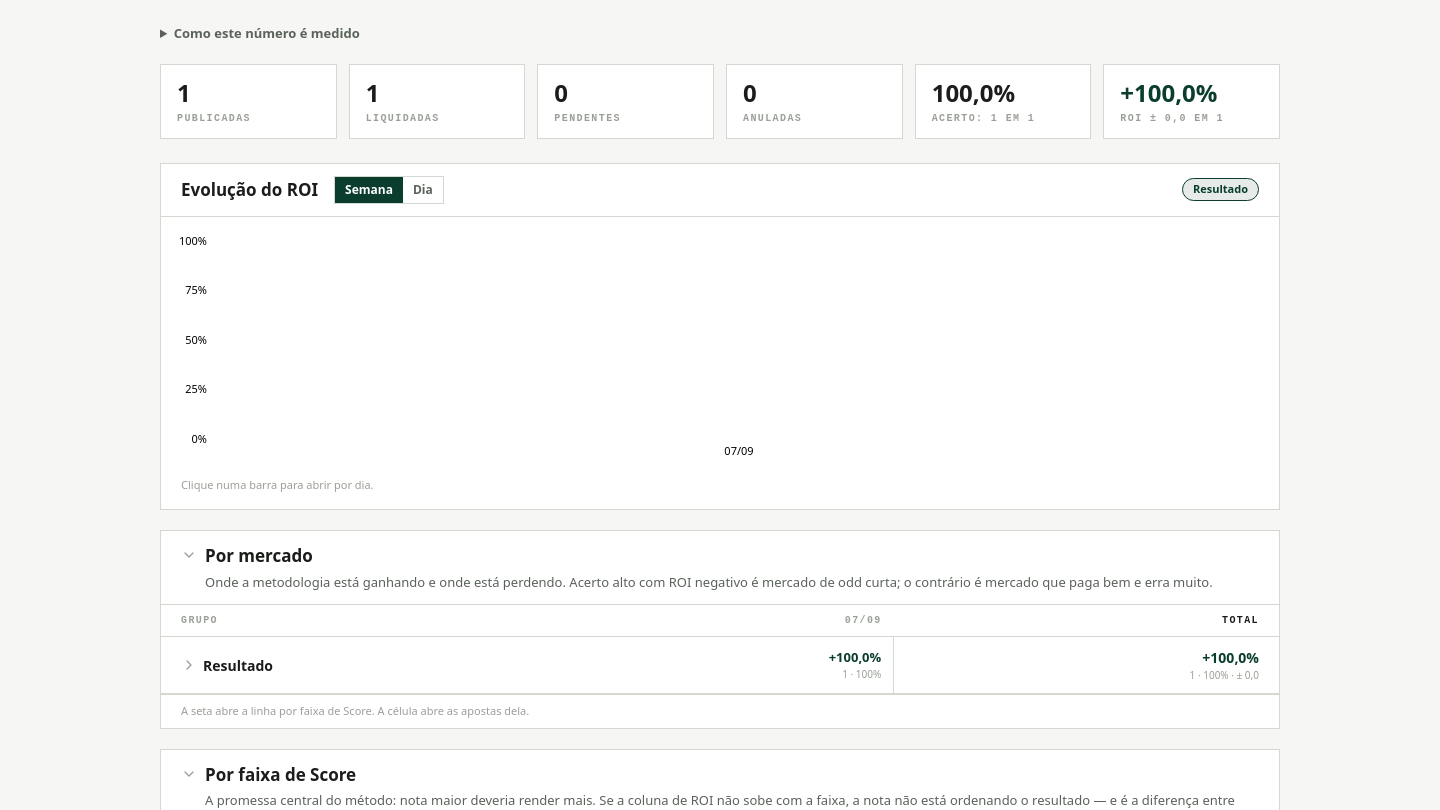
Test: o drill mostra o placar e a distância até a linha › e em mercado sem linha mostra o placar, sem inventar margem
This screenshot has width=1440, height=810.
Click the cell "+100,0% 1 · 100%": (855, 657) [624,636,894,694]
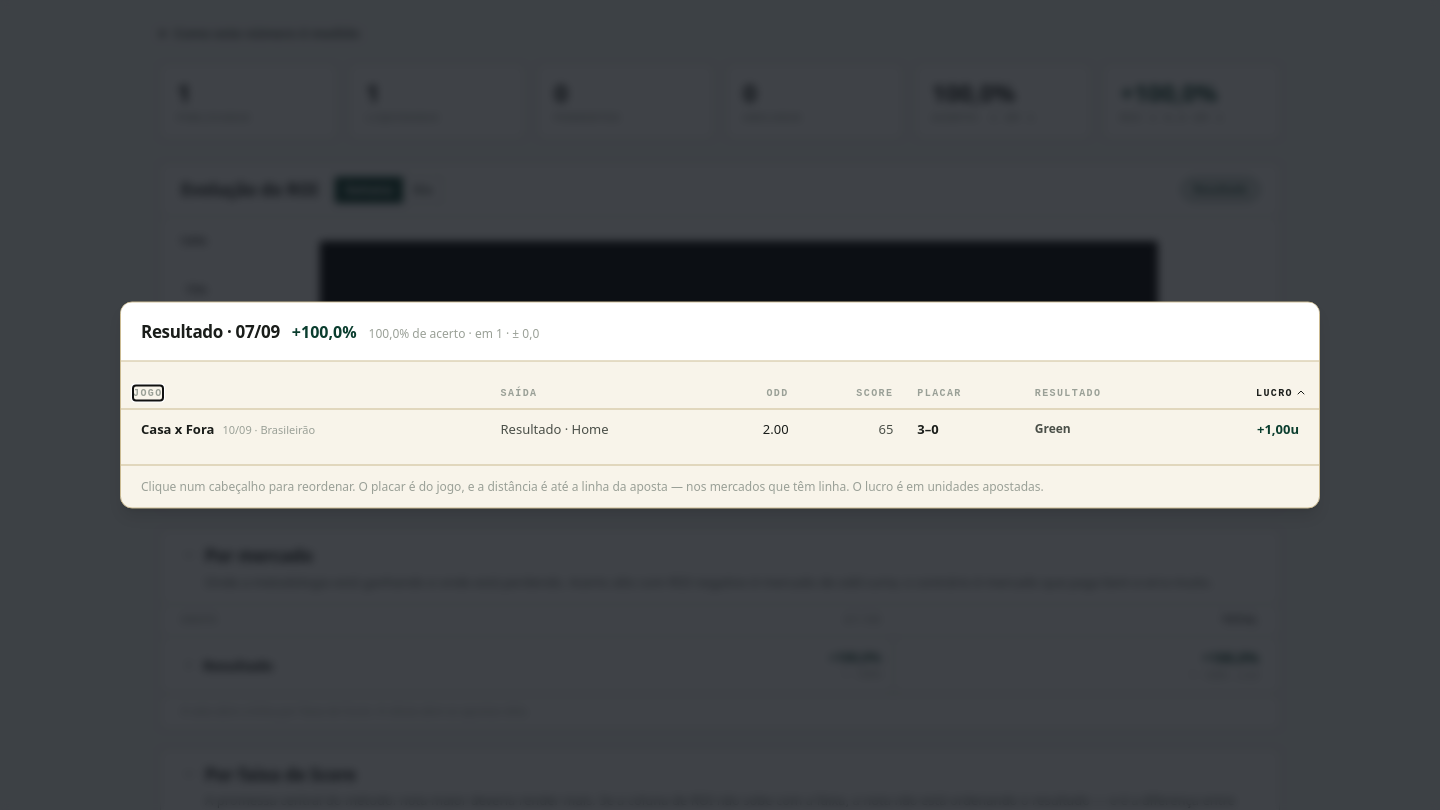
Result: the dialog shows "3–0" at [917,419,939,437]
